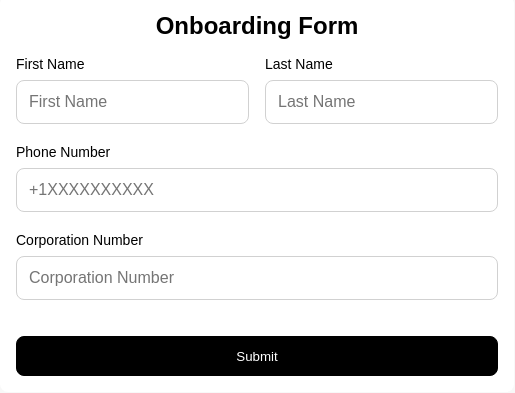
Scenario: App tests › fields should error if submit is pressed immediately
This screenshot has width=515, height=393.
Click the button "Submit": (257, 356) [16, 336, 498, 376]
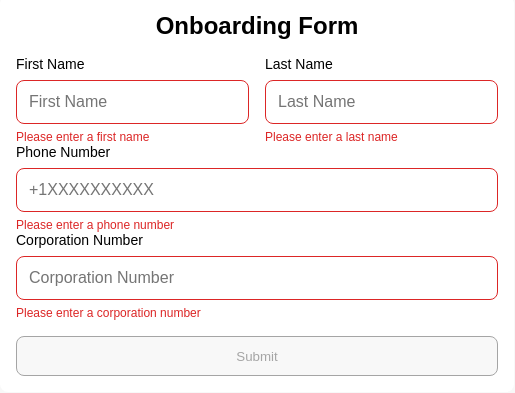
Expected: the text "Please enter a first name" is shown, [16, 130, 149, 144]
Expected: the text "Please enter a last name" is shown, [265, 130, 398, 144]
Expected: the text "Please enter a phone number" is shown, [16, 218, 174, 232]
